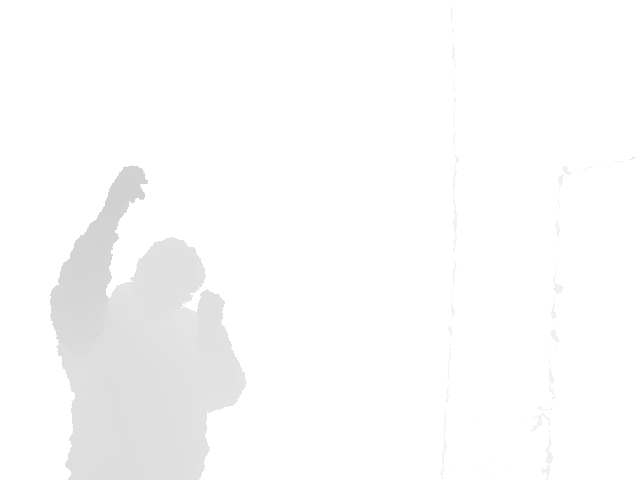hand: (92, 166, 149, 221)
head: (131, 237, 206, 320)
person: (48, 163, 248, 480)
